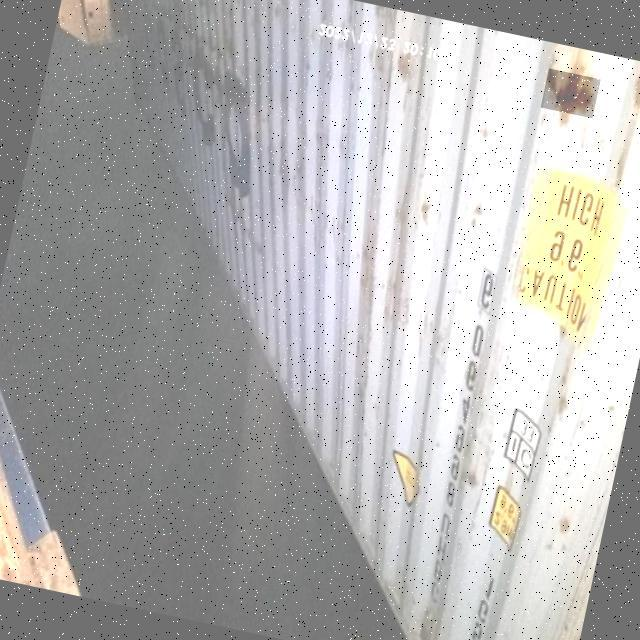Rust: (540, 68, 600, 118), (627, 60, 640, 124)
